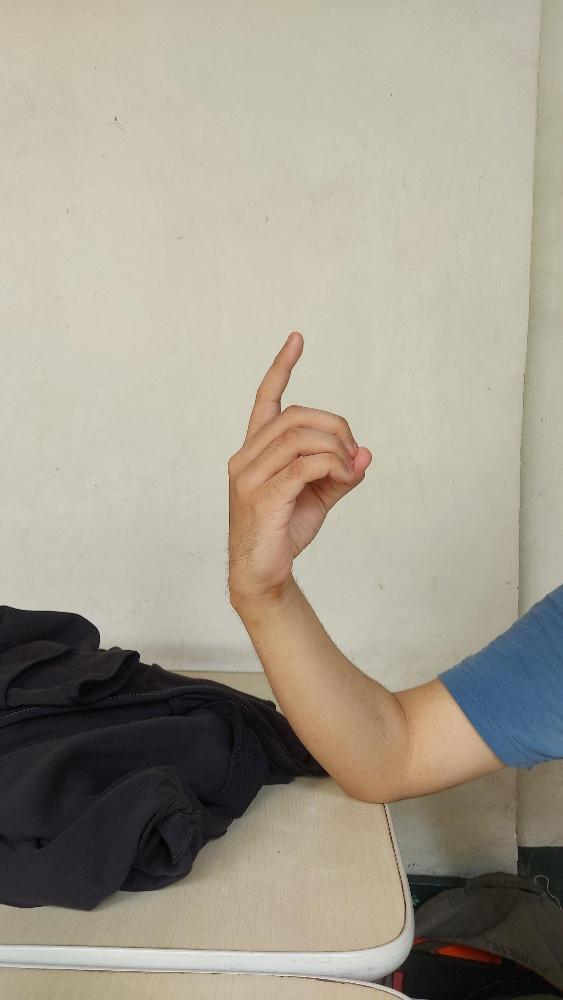d: (226, 330, 371, 595)
